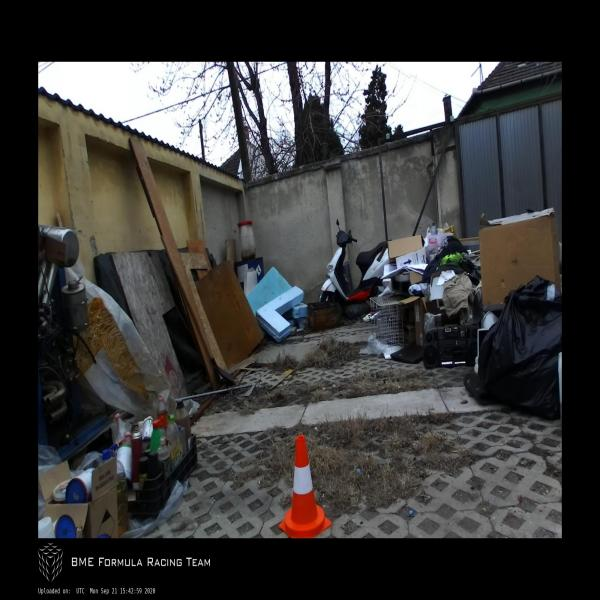orange_cone: (278, 436, 332, 538)
